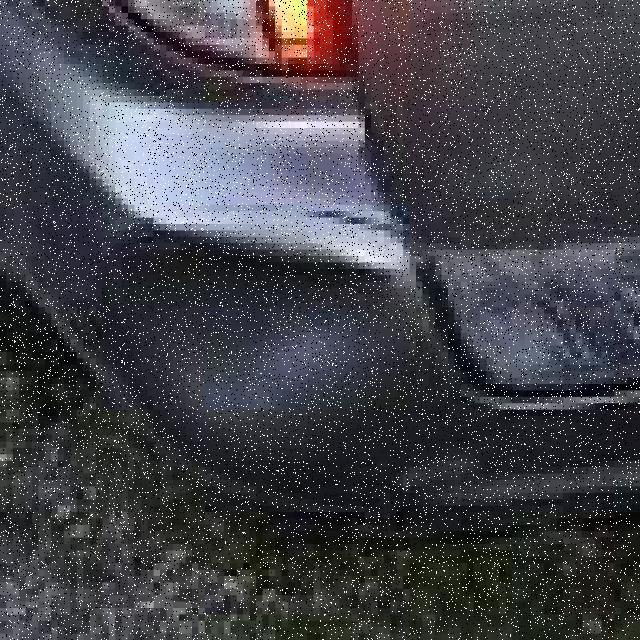rear-bumper-dent: (0, 64, 634, 557)
